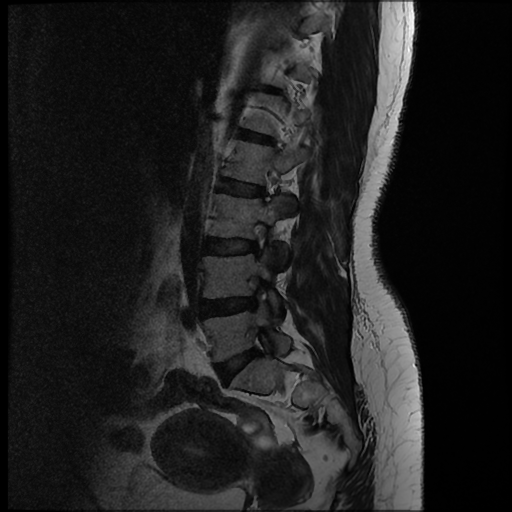RFS0: (237, 214, 279, 265)
RFS3: (238, 268, 280, 314)
